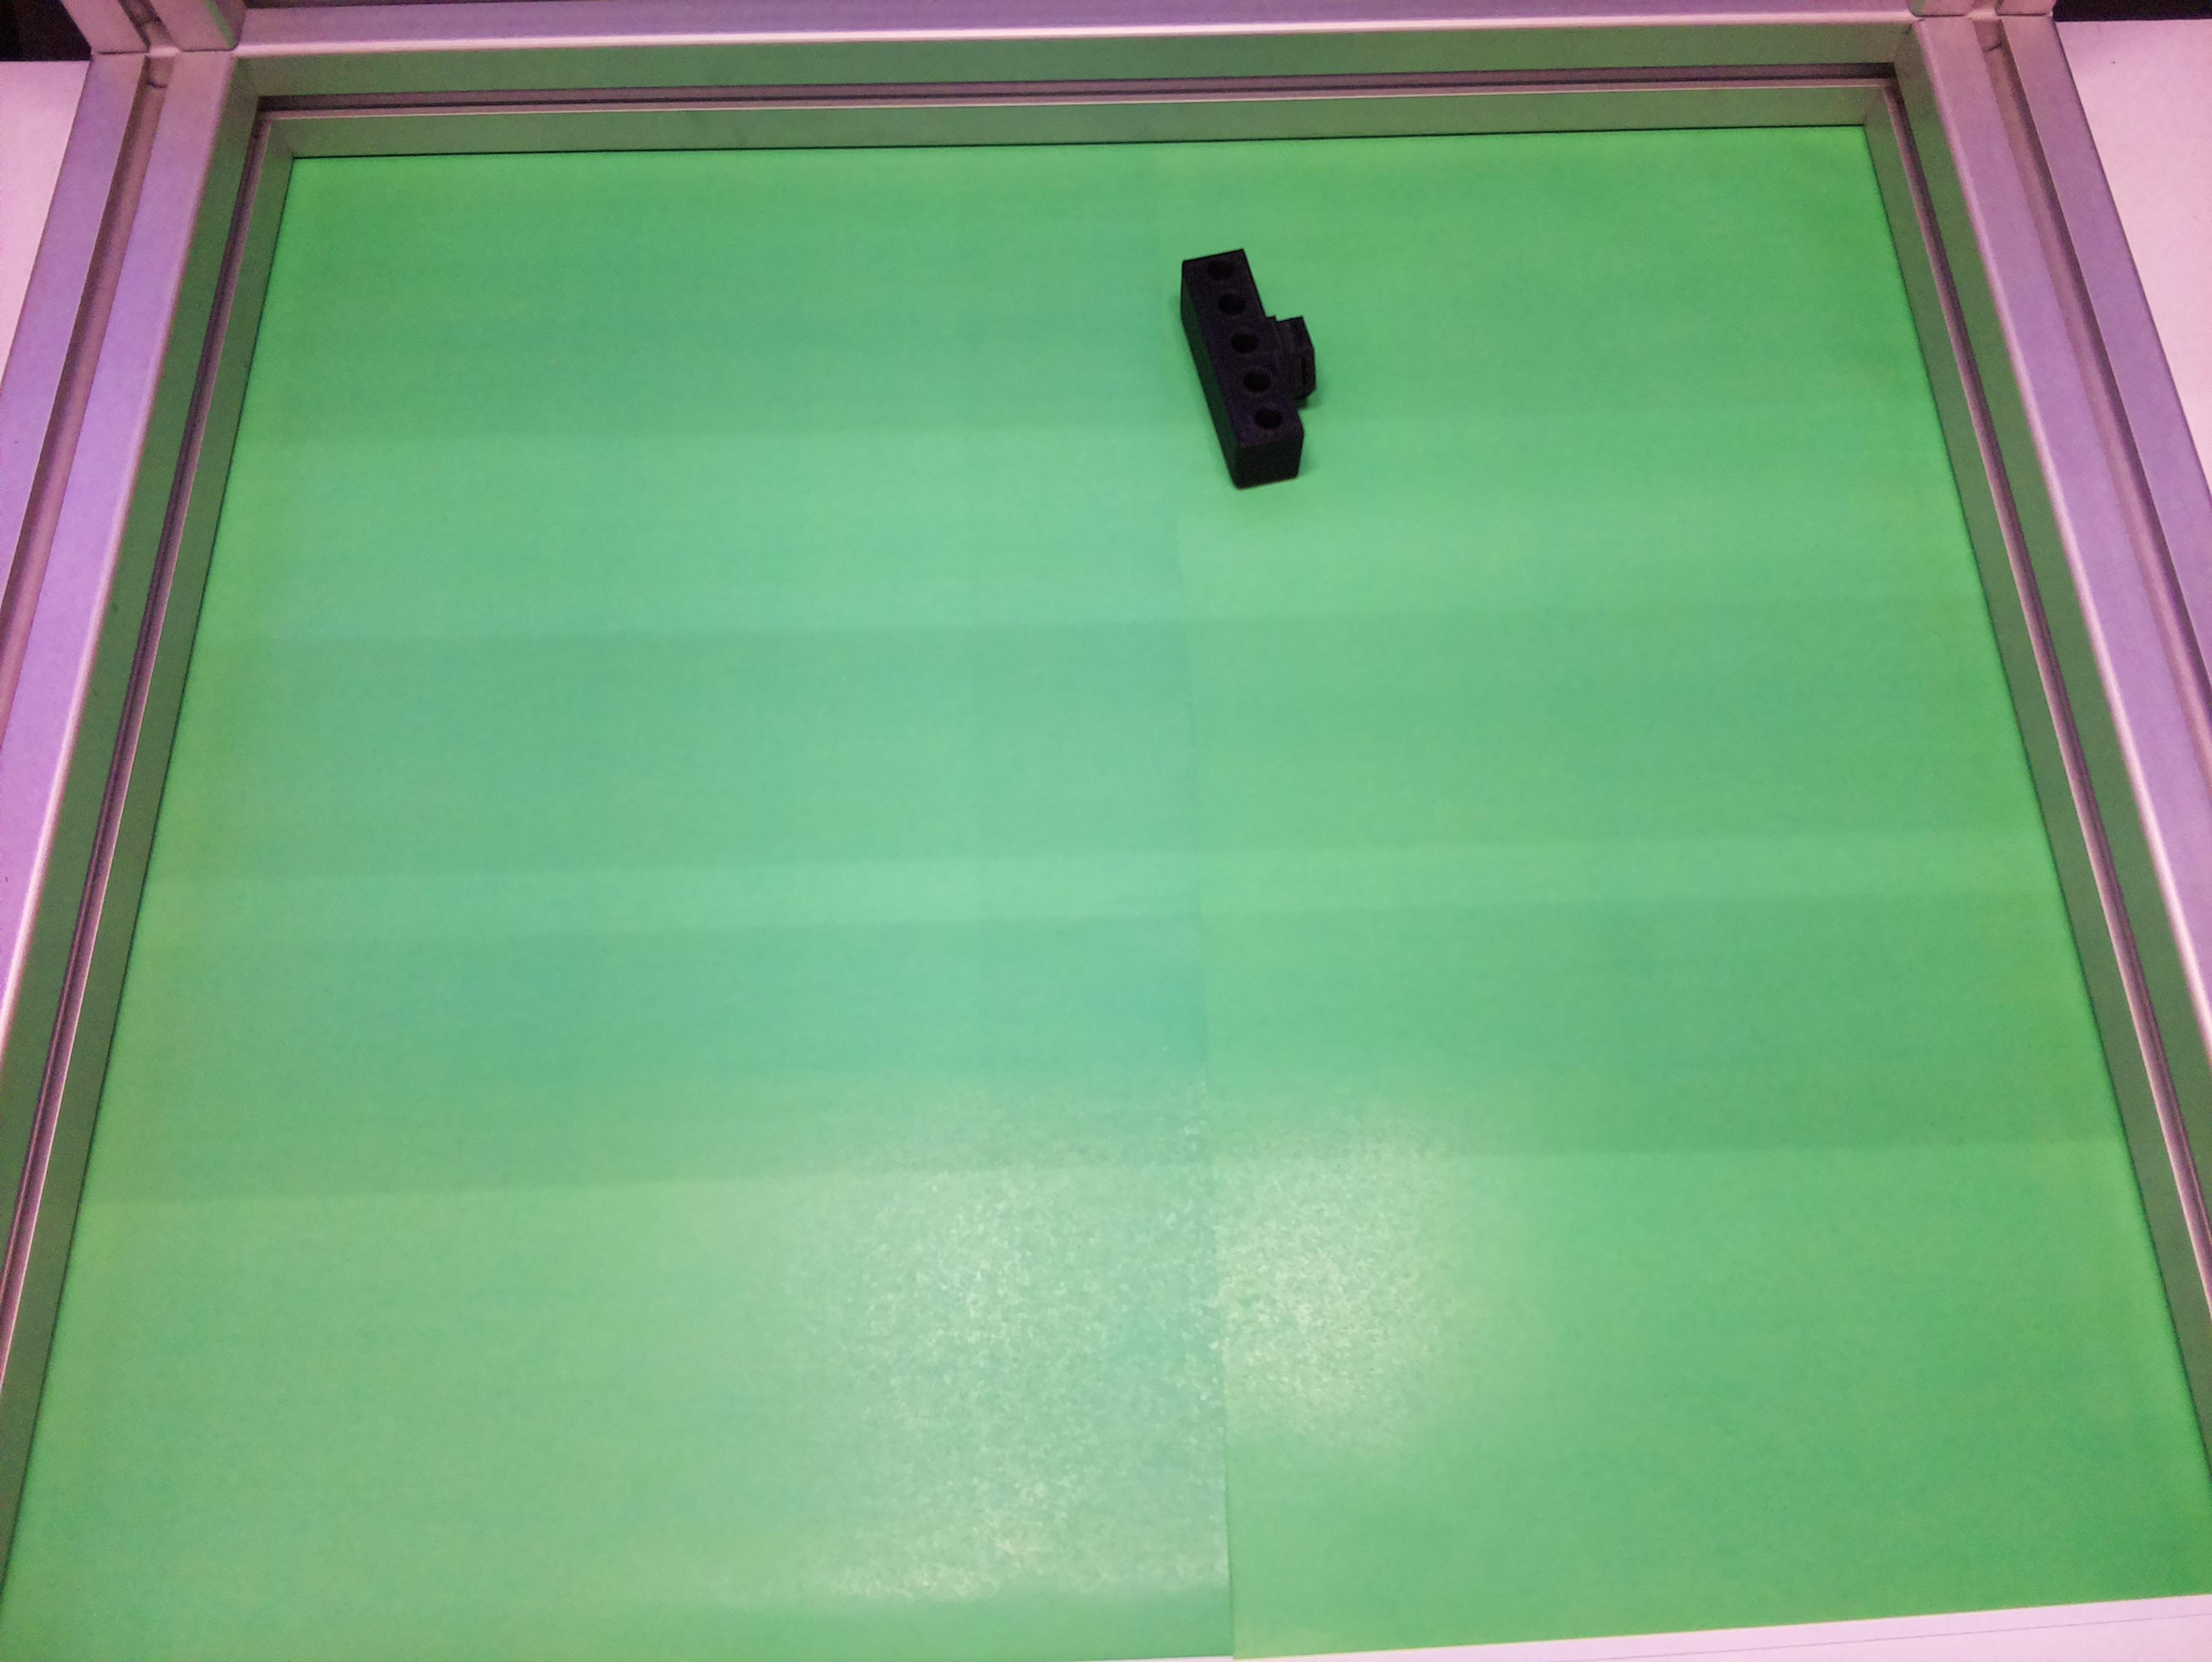bit_holder: (1161, 230, 1350, 498)
